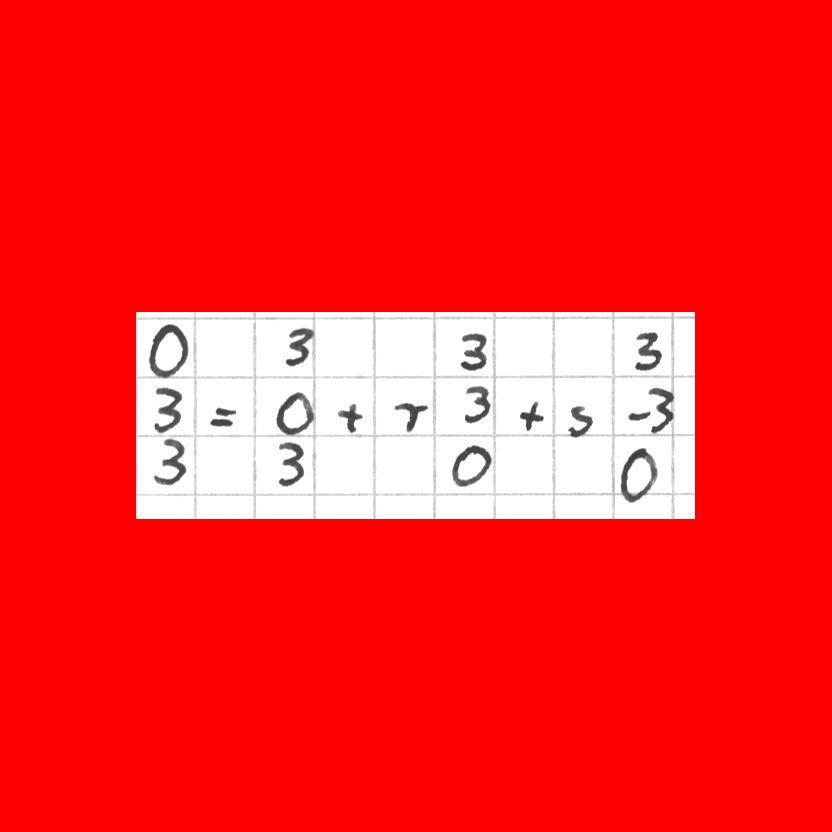Char: (617, 446, 658, 504), (146, 325, 191, 375), (448, 443, 493, 490), (151, 438, 191, 488), (150, 383, 186, 434), (274, 390, 318, 431), (274, 439, 308, 490), (455, 329, 490, 376), (645, 385, 677, 436), (281, 324, 315, 368), (631, 328, 663, 372), (460, 382, 491, 427), (394, 398, 428, 435), (566, 403, 594, 438), (517, 399, 544, 435), (336, 400, 361, 436), (207, 403, 234, 431), (627, 408, 649, 422)
